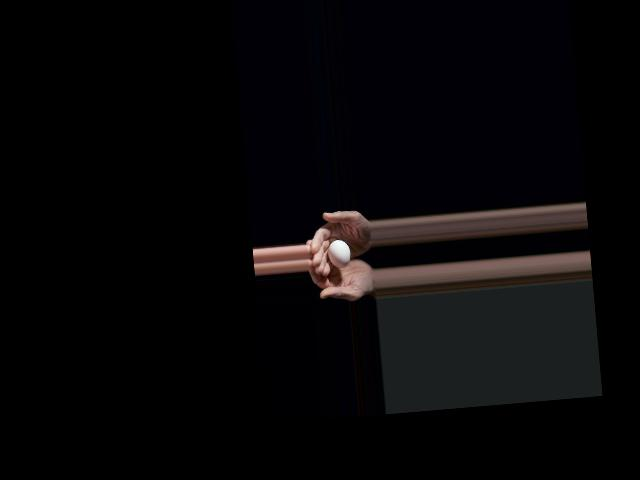egg: (327, 238, 351, 268)
